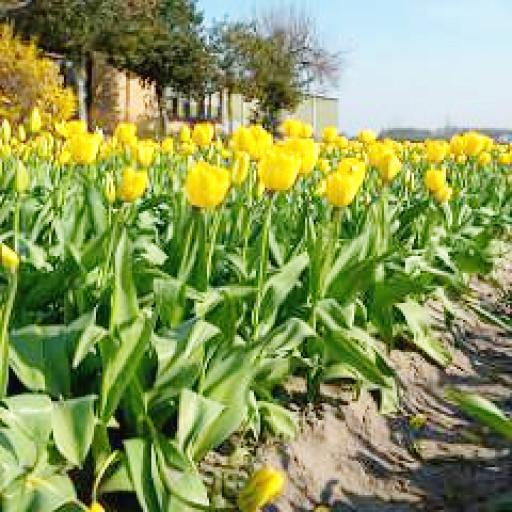tulip: (188, 166, 230, 209), (256, 147, 299, 188), (284, 130, 318, 173), (70, 128, 100, 160), (120, 166, 145, 198), (329, 173, 354, 200), (454, 132, 480, 154), (194, 122, 213, 140), (435, 186, 450, 198)
